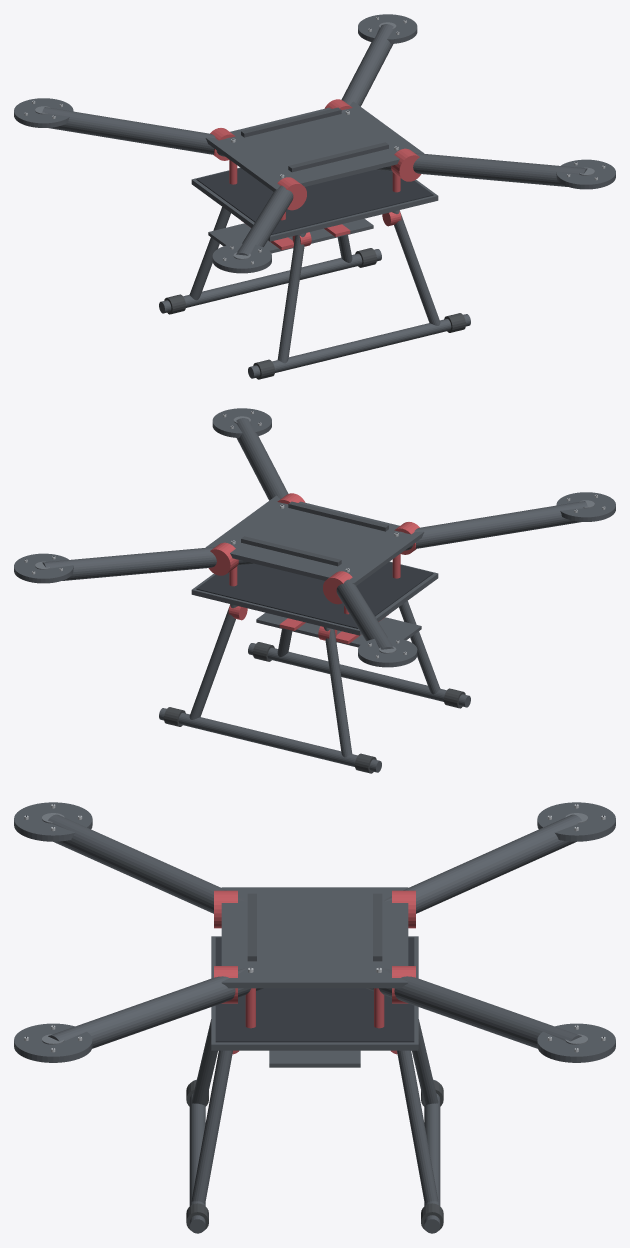
Rendered from frame_650.glb.
3 views of the same model, one above another, from view 1: azimuth 30°, elevation 25°; view 2: azimuth 150°, elevation 25°; view 3: azimuth 270°, elevation 25° (orthographic). The views are drawn at different scales.
Parts seen in each view (by area): view 1: top_plate, bottom_edge, arm_M4, arm_M2, rail_right, rail_left, bottom_plate, arm_M1, arm_M3, leg_1_1, battery_tray, leg_0_1 (+9 smaller); view 2: top_plate, bottom_edge, arm_M3, arm_M1, rail_left, rail_right, bottom_plate, arm_M2, arm_M4, leg_1_0, battery_tray, leg_0_0 (+9 smaller); view 3: top_plate, bottom_edge, arm_M3, arm_M4, arm_M1, arm_M2, bottom_plate, leg_0_0, leg_0_1, motor_plate_M1, motor_plate_M2, motor_plate_M3 (+8 smaller).
Part boxes in pixels (x1,y1,x2,y2): top_plate: [205, 101, 423, 191]; bottom_edge: [196, 168, 433, 234]; arm_M4: [42, 107, 237, 156]; arm_M2: [375, 152, 587, 186]; rail_right: [248, 314, 470, 378]; rail_left: [159, 249, 381, 313]; bottom_plate: [191, 167, 438, 241]; arm_M1: [341, 24, 393, 112]; arm_M3: [236, 185, 293, 255]; leg_1_1: [277, 233, 306, 363]; battery_tray: [208, 218, 373, 253]; leg_0_1: [392, 210, 440, 325]; top_plate: [206, 495, 424, 585]; bottom_edge: [196, 562, 433, 628]; arm_M3: [392, 501, 587, 550]; arm_M1: [42, 546, 254, 580]; rail_left: [159, 708, 381, 772]; rail_right: [248, 643, 470, 707]; bottom_plate: [191, 561, 438, 635]; arm_M2: [236, 418, 288, 506]; arm_M4: [336, 579, 393, 649]; leg_1_0: [323, 627, 352, 757]; battery_tray: [256, 612, 421, 647]; leg_0_0: [189, 604, 237, 719]; top_plate: [221, 887, 408, 988]; bottom_edge: [215, 937, 414, 1042]; arm_M3: [48, 814, 246, 913]; arm_M4: [383, 814, 581, 913]; arm_M1: [366, 968, 581, 1048]; arm_M2: [48, 968, 263, 1048]; bottom_plate: [211, 936, 418, 1050]; leg_0_0: [397, 1050, 438, 1203]; leg_0_1: [191, 1050, 232, 1203]; motor_plate_M1: [537, 1023, 615, 1062]; motor_plate_M2: [14, 1023, 92, 1062]; motor_plate_M3: [14, 802, 92, 841].
Bounding box in the file's own units: 0.5286 × 0.2345 × 0.5286.
